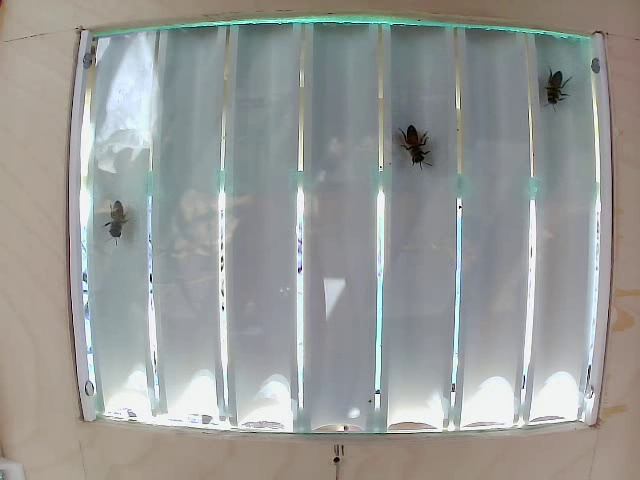bee: (392, 110, 435, 176), (98, 194, 139, 241), (543, 56, 580, 108)
